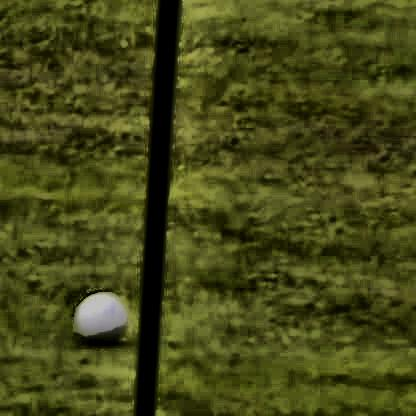golfball: (72, 289, 126, 340)
